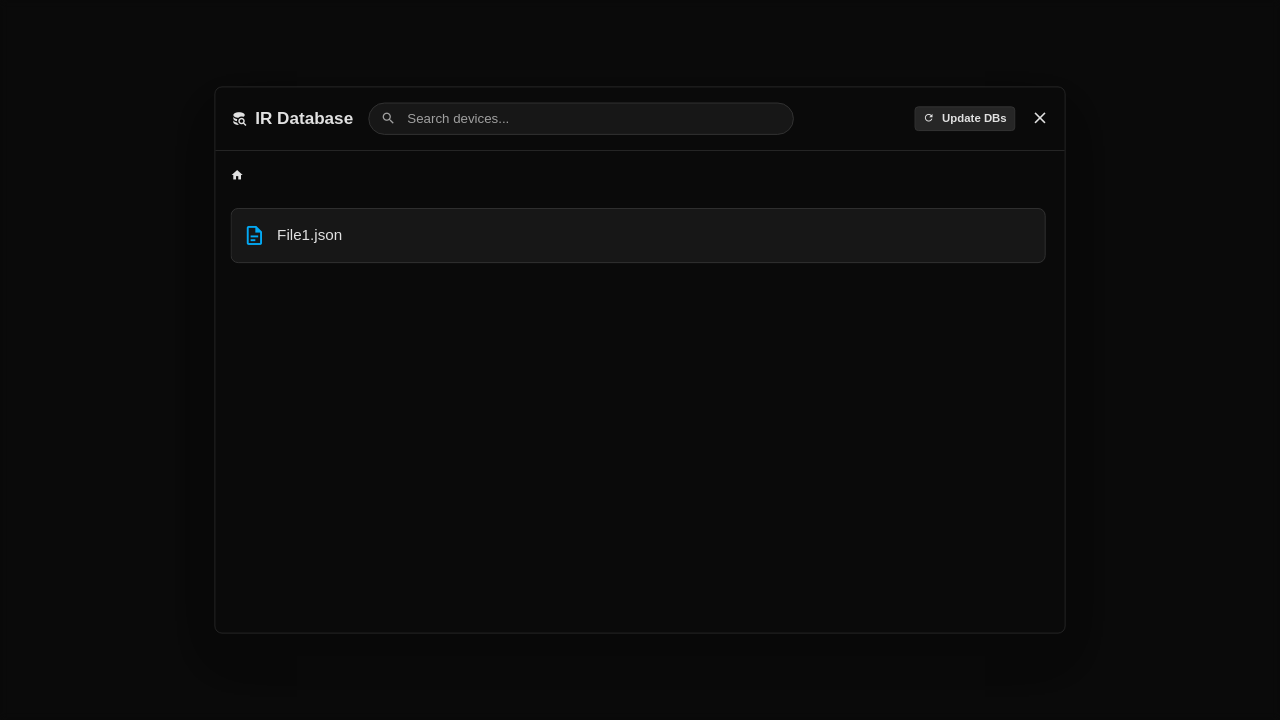
Test: IrDbPicker.vue › loads a file and displays its buttons
The width and height of the screenshot is (1280, 720).
What coordinates should you click on to do the following:
click the icon with class "mdi-file-document-outline"
I would click on:
 (254, 236)
Its box is x1=243 y1=220 x2=266 y2=251.
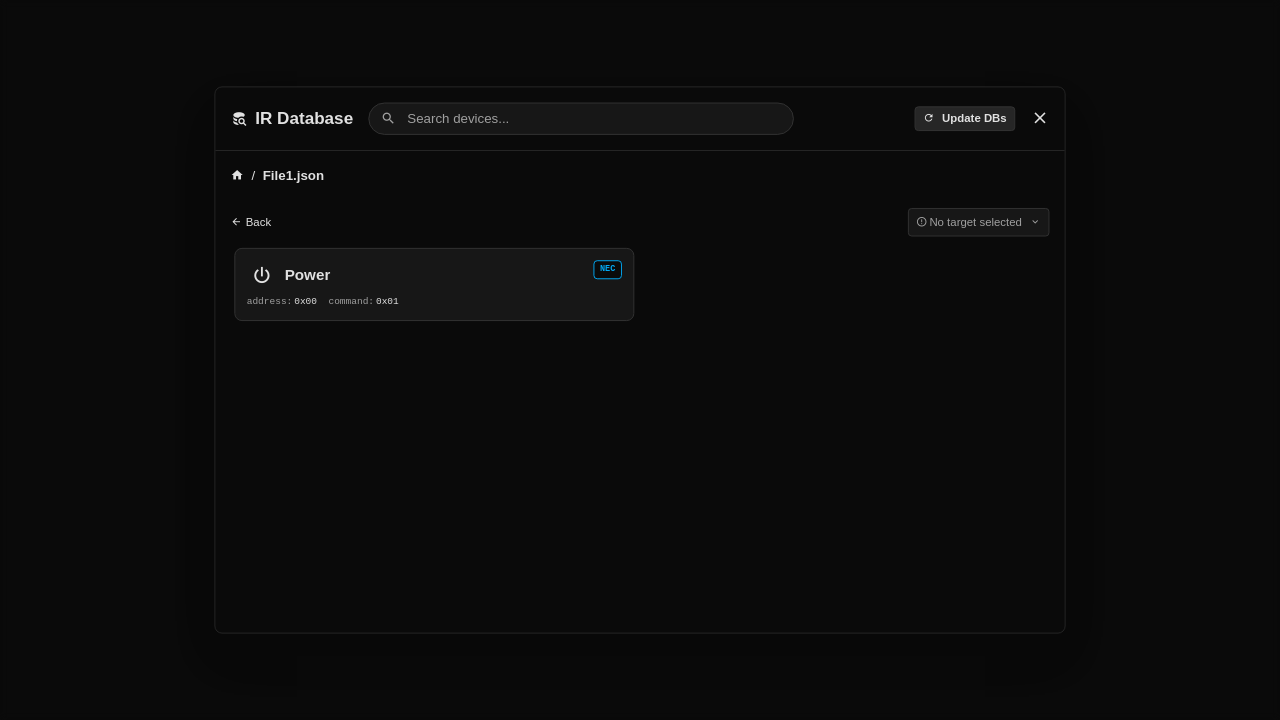
Expected: the text "Power" is shown, x1=285 y1=264 x2=330 y2=287
Expected: the text "NEC" is shown, x1=593 y1=260 x2=622 y2=279
Expected: the text "address" is shown, x1=247 y1=296 x2=292 y2=307
